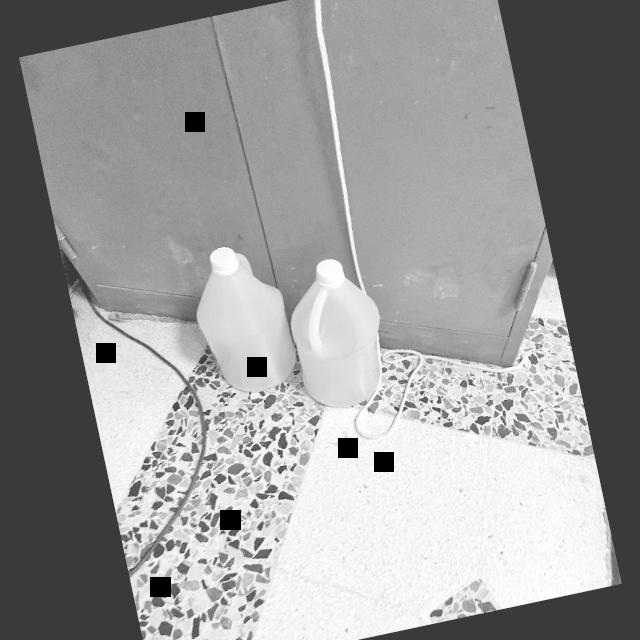chemical_plastic_gallon: (176, 234, 306, 404), (276, 244, 400, 418)
